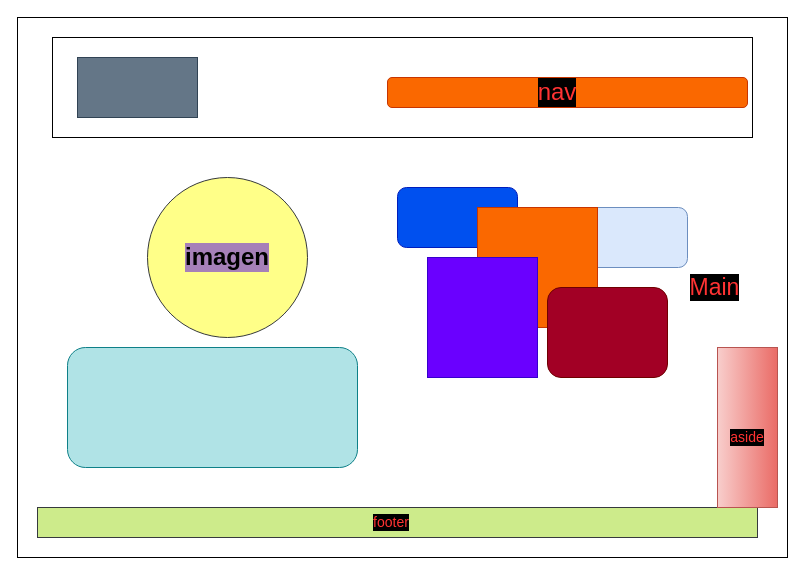
Image size: 805x575. Some labels were removed from this diagram. Each missing label, with the centre of its shape:
article: the point at 212,407
Datos personales: the point at 137,87
